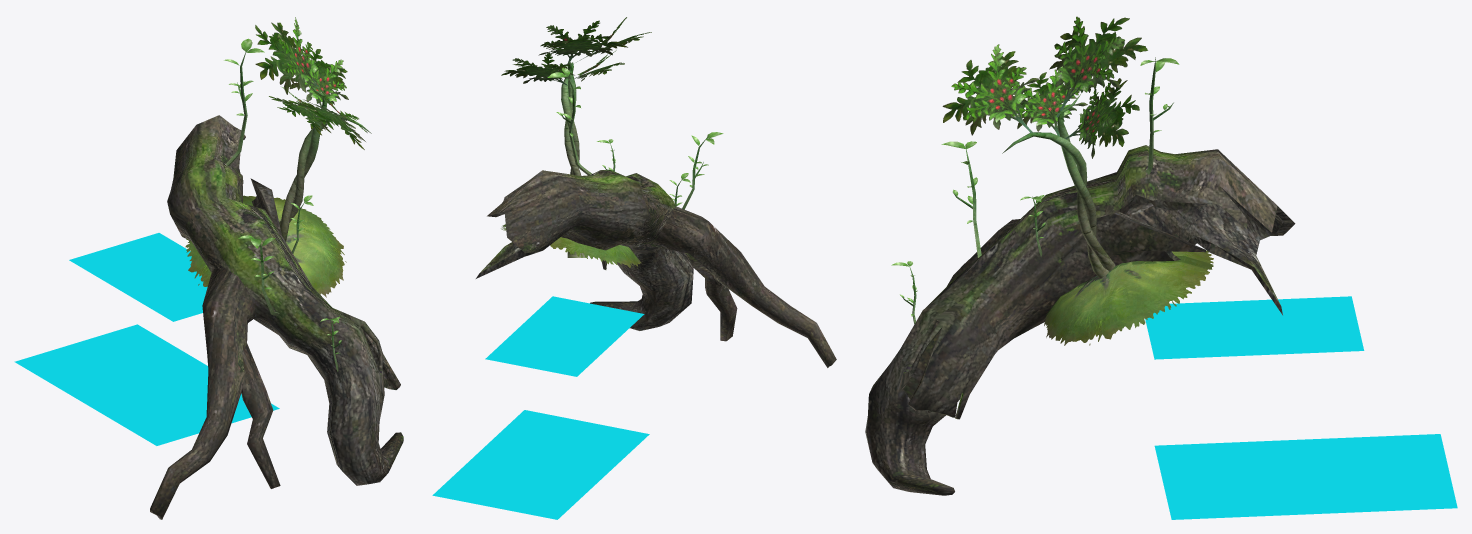
The model's file is CollectibleLifeoftree.fbx.
3 renders of one model, left to right at view 1: azimuth 30°, elevation 25°; view 2: azimuth 150°, elevation 25°; view 3: azimuth 270°, elevation 25°, orthographic. The views are drawn at different scales.
Parts seen in each view (by area): view 1: ItemBox_TreeofLife_Base, Fx_Fbx_Beam_02 (×2), ItemBox_TreeofLife_Branch; view 2: ItemBox_TreeofLife_Base, Fx_Fbx_Beam_02 (×2), ItemBox_TreeofLife_Branch; view 3: ItemBox_TreeofLife_Base, Fx_Fbx_Beam_02 (×2), ItemBox_TreeofLife_Branch.
Boxes of the visible parts, x1,y1,x2,y2 form: ItemBox_TreeofLife_Base: (150, 38, 403, 519); Fx_Fbx_Beam_02 (×2): (14, 233, 279, 445); ItemBox_TreeofLife_Branch: (255, 17, 371, 241); ItemBox_TreeofLife_Base: (476, 68, 836, 367); Fx_Fbx_Beam_02 (×2): (432, 296, 649, 519); ItemBox_TreeofLife_Branch: (501, 17, 651, 257); ItemBox_TreeofLife_Base: (865, 57, 1295, 495); Fx_Fbx_Beam_02 (×2): (1145, 296, 1457, 519); ItemBox_TreeofLife_Branch: (942, 16, 1147, 278).
Size of the model in its own units: 2.65 by 3.32 by 3.68.
2 materials, 1 textured.
